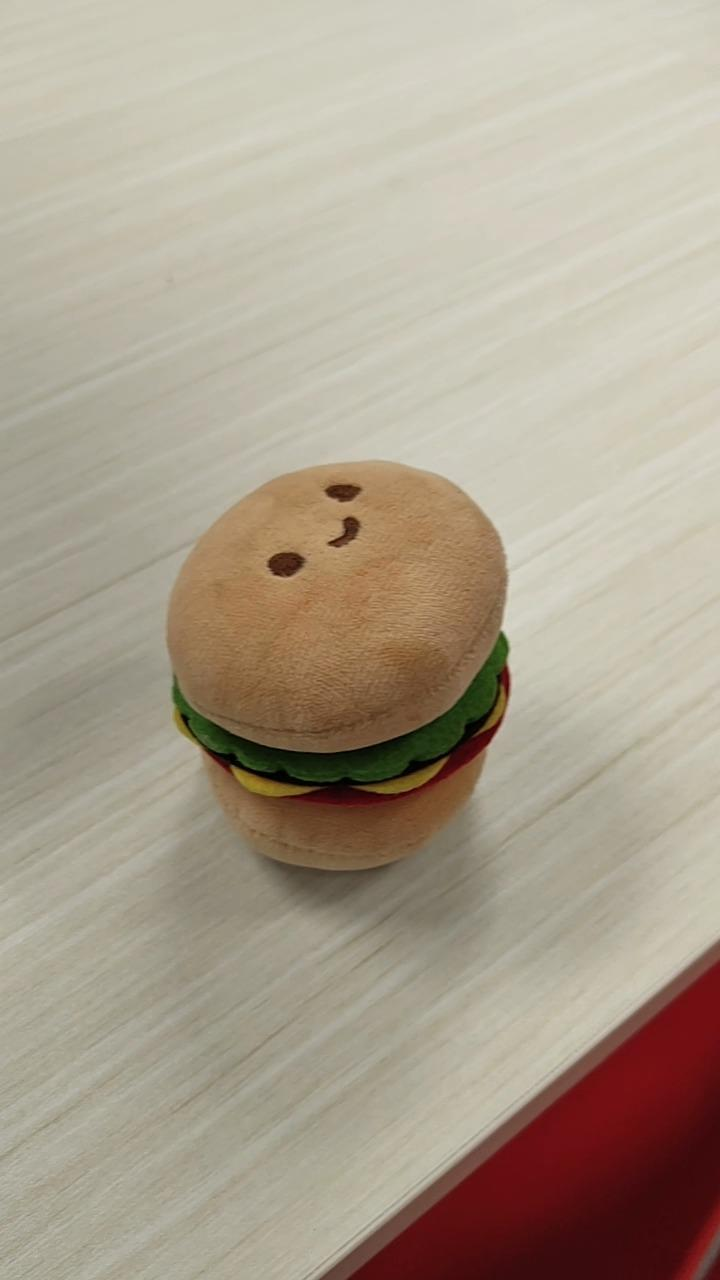hamburger: (164, 457, 512, 873)
